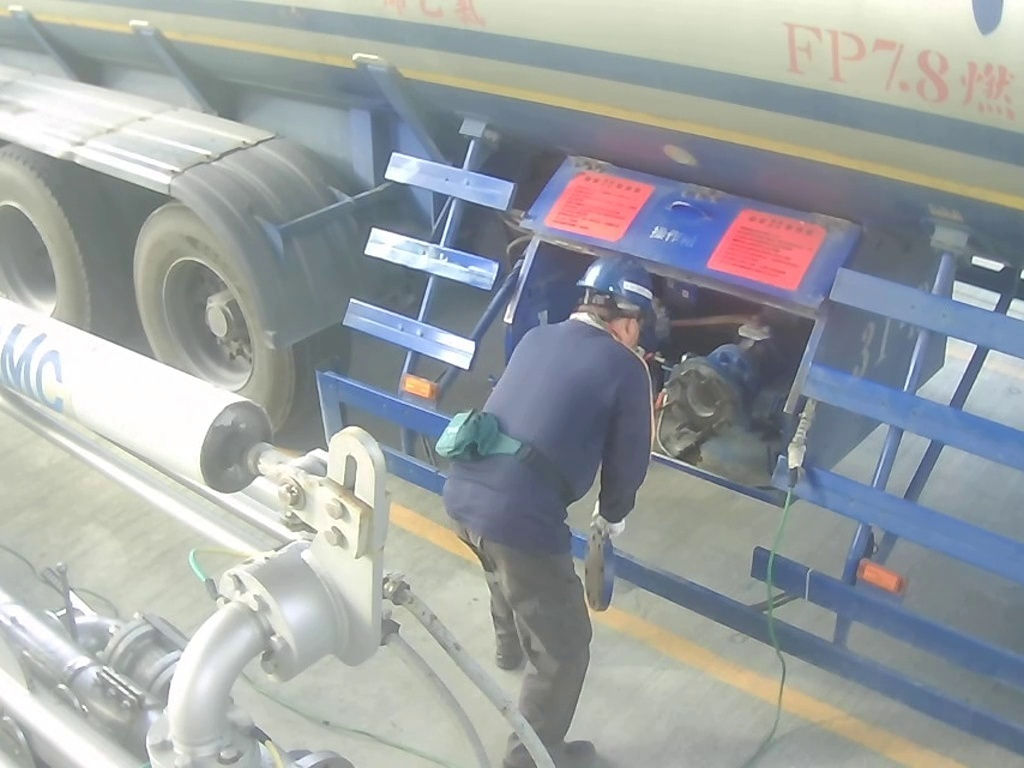helmet: (573, 244, 663, 351)
pack: (435, 411, 521, 464)
person: (427, 246, 686, 768)
